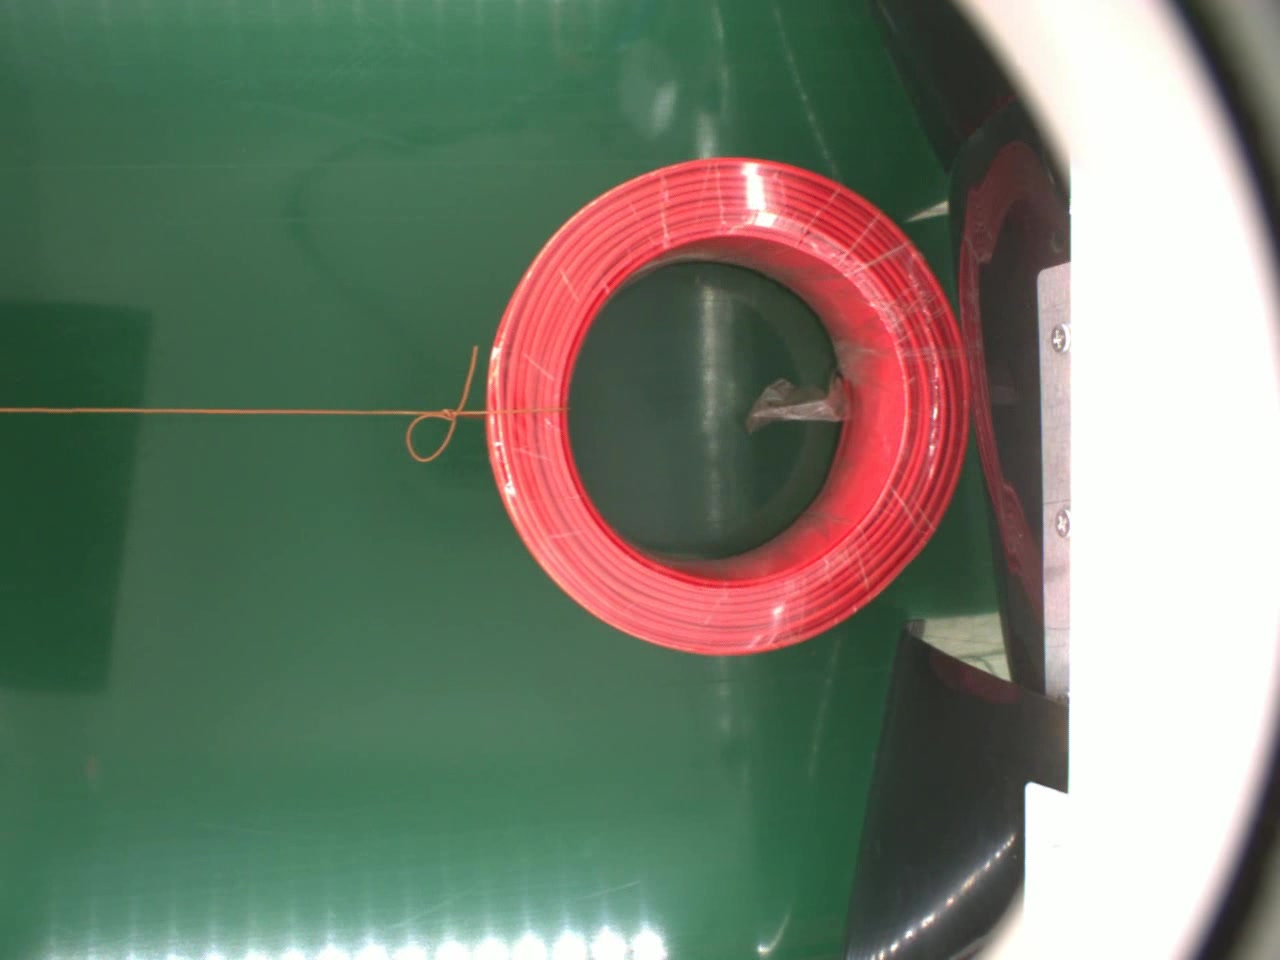red: (485, 157, 977, 656)
